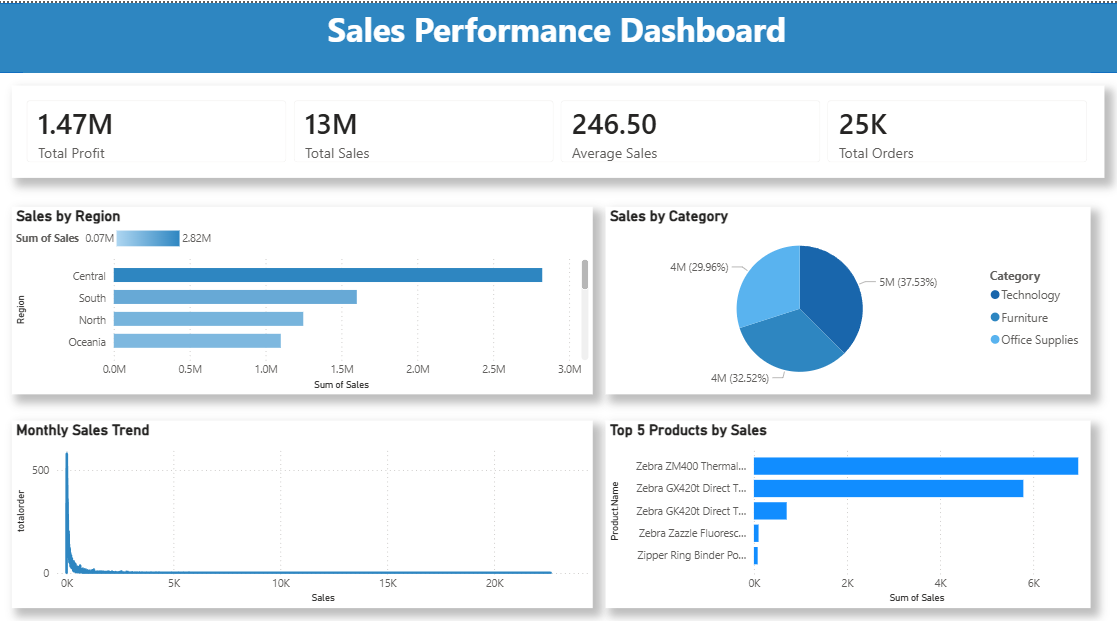

Layout of this report page (visuals, bound fields, positions):
{"tool":"powerbi","page":{"name":"Page 1","canvas":[1280,720],"ordinal":0},"visuals":[{"type":"cardVisual","fields":{"Data":["Sum(cleaned_sales.Profit)","Sum(cleaned_sales.Sales)","cleaned_sales.avgsales","cleaned_sales.totalorder"]},"box":[15.7,94.3,1248.6,105.7],"z":0},{"type":"shape","box":[0,0,1280,80],"z":1000},{"type":"textbox","box":[28.6,0,1220,80],"z":2000},{"type":"barChart","title":"Sales by Region","fields":{"Category":["cleaned_sales.Region"],"Y":["Sum(cleaned_sales.Sales)"]},"box":[15.7,232.9,664.3,214.3],"z":3000},{"type":"pieChart","title":"Sales by Category","fields":{"Category":["cleaned_sales.Category"],"Y":["Sum(cleaned_sales.Sales)"]},"box":[694.3,232.9,554.3,214.3],"z":4000},{"type":"lineChart","title":"Monthly Sales Trend","fields":{"Category":["cleaned_sales.Sales"],"Y":["cleaned_sales.totalorder"]},"box":[15.7,477.1,664.3,214.3],"z":5000},{"type":"barChart","title":"Top 5 Products by Sales","fields":{"Category":["cleaned_sales.Product.Name"],"Y":["Sum(cleaned_sales.Sales)"]},"box":[694.3,477.1,554.3,214.3],"z":6000}]}

Visuals, with their boxes in screenshot pixels (x1, y1, x2, y2), scaled from the page's 1280x720 canvas onto the 1117x621 screenshot:
cardVisual - Sum(cleaned_sales.Profit) x Sum(cleaned_sales.Sales): <box>14,81,1103,172</box>
shape: <box>0,0,1116,69</box>
textbox: <box>25,0,1090,69</box>
"Sales by Region" barChart: <box>14,201,593,386</box>
"Sales by Category" pieChart: <box>606,201,1090,386</box>
"Monthly Sales Trend" lineChart: <box>14,411,593,596</box>
"Top 5 Products by Sales" barChart: <box>606,411,1090,596</box>
